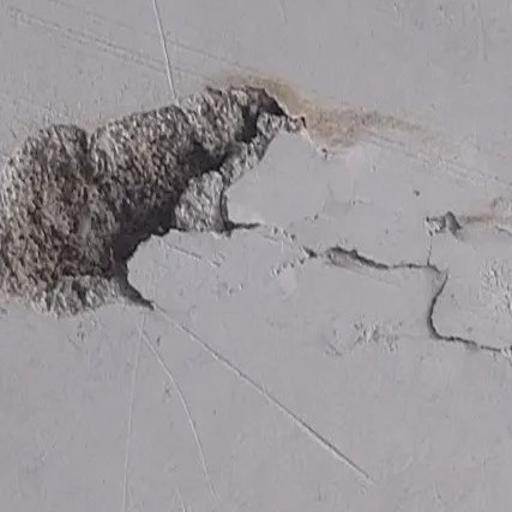spalling: (6, 74, 317, 336)
